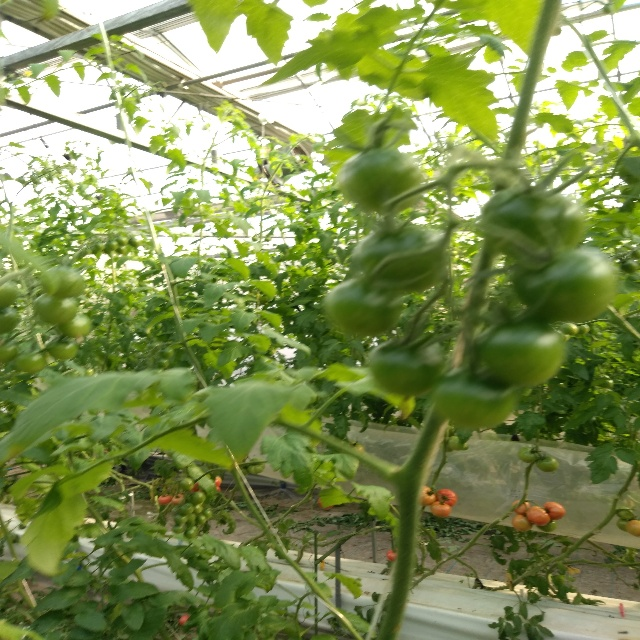l_fully_ripened: (435, 488, 457, 507), (386, 548, 399, 561)
l_green: (482, 185, 588, 263), (515, 249, 615, 323), (352, 224, 451, 293), (480, 323, 565, 390), (337, 149, 425, 213), (436, 366, 517, 432), (322, 275, 403, 335), (368, 337, 446, 398), (39, 265, 86, 298), (33, 293, 79, 325), (57, 314, 93, 337), (46, 338, 78, 361), (15, 353, 45, 373), (0, 307, 18, 335), (516, 446, 540, 463), (536, 457, 559, 473), (1, 342, 18, 363), (560, 322, 578, 335), (536, 521, 556, 532), (178, 503, 194, 515), (574, 322, 589, 334), (189, 492, 204, 504), (175, 513, 188, 524), (172, 524, 184, 533), (197, 514, 207, 524), (193, 504, 203, 514)
l_half_ripened: (525, 506, 551, 526), (544, 502, 566, 520), (512, 514, 534, 532), (418, 485, 436, 507), (430, 501, 452, 518), (512, 500, 530, 514), (626, 520, 640, 537), (157, 494, 172, 504)
